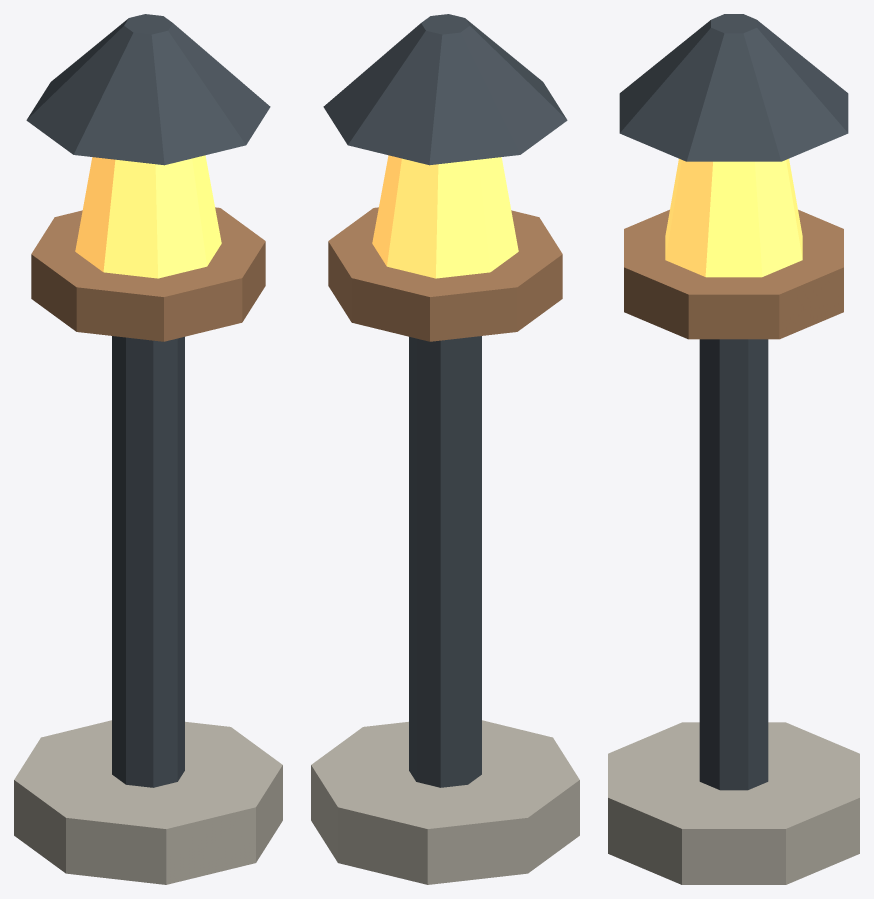
File: SM_AEON_PilgrimLantern.glb
The picture shows the model from 3 angles, left to right: view 1: azimuth 30°, elevation 25°; view 2: azimuth 150°, elevation 25°; view 3: azimuth 270°, elevation 25°; orthographic projection.
Parts seen in each view (by area): view 1: SM_AEON_PilgrimLantern; view 2: SM_AEON_PilgrimLantern; view 3: SM_AEON_PilgrimLantern.
Boxes of the visible parts, x1,y1,x2,y2 form: SM_AEON_PilgrimLantern: (14, 14, 282, 884); SM_AEON_PilgrimLantern: (311, 14, 579, 884); SM_AEON_PilgrimLantern: (608, 14, 859, 884).
Size of the model in its own units: 1.02 by 3.6 by 1.02.
